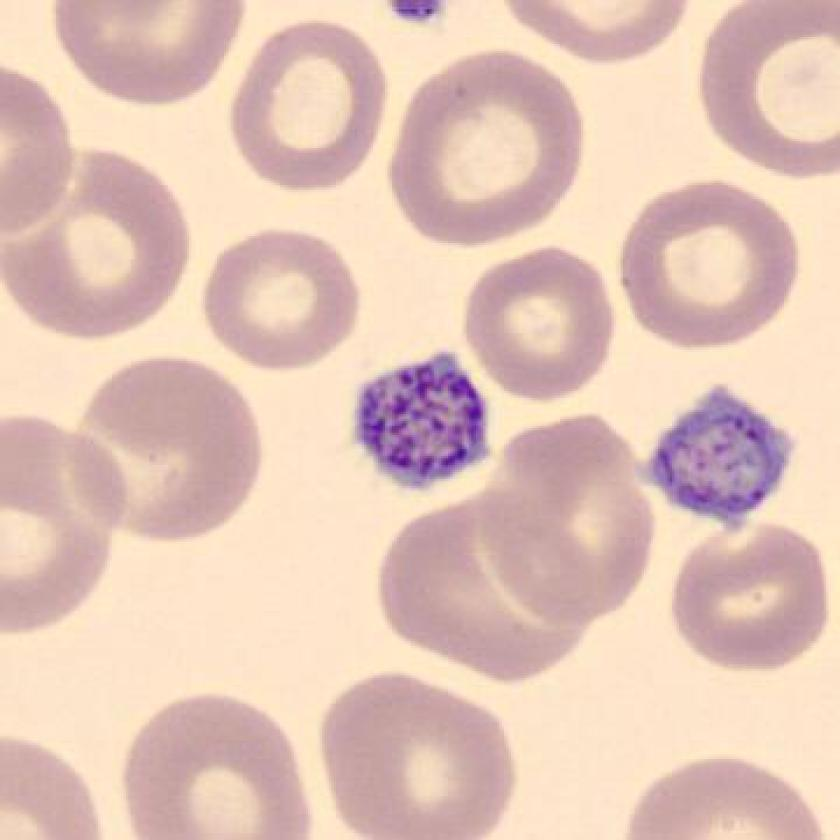platelets: (633, 378, 806, 547), (347, 343, 501, 508)
